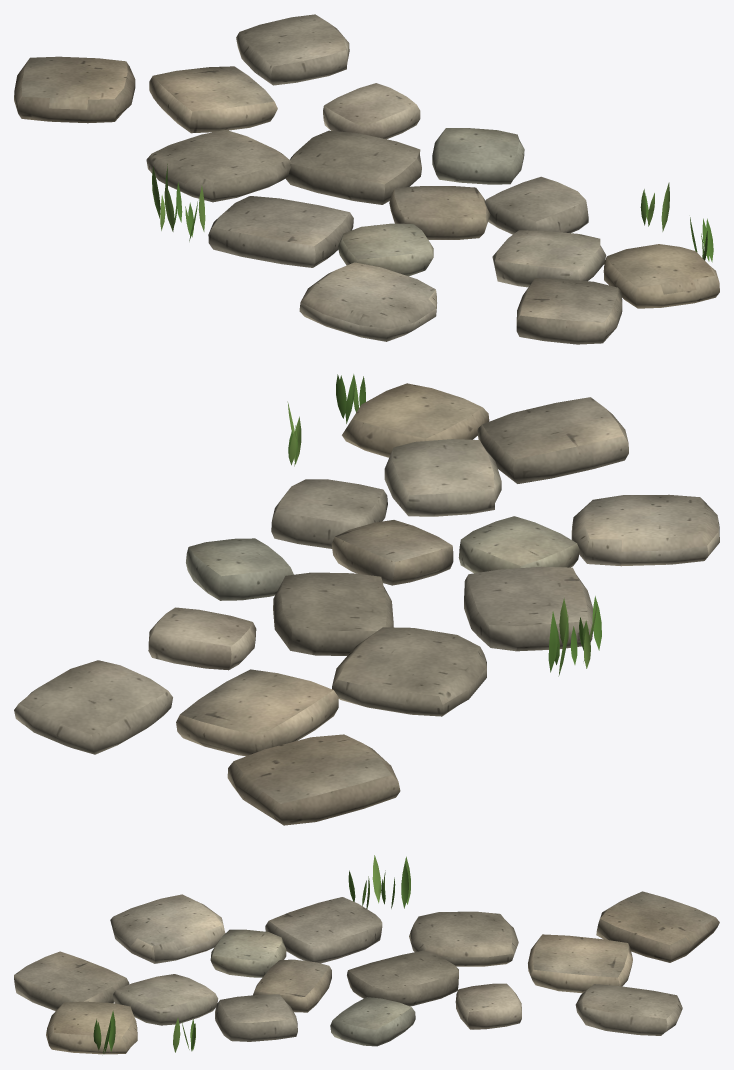
The model's file is path_stones.gltf.
The picture shows the model from 3 angles, top to bottom: view 1: azimuth 30°, elevation 25°; view 2: azimuth 150°, elevation 25°; view 3: azimuth 270°, elevation 25°; orthographic projection. The views are drawn at different scales.
Parts seen in each view (by area): view 1: Stones, Path; view 2: Stones, Path; view 3: Stones, Path.
Part boxes in pixels (box(x1,y1,x2,y2)): Stones: box(14, 14, 719, 344); Path: box(152, 164, 713, 262); Stones: box(14, 383, 719, 825); Path: box(287, 374, 601, 676); Stones: box(14, 891, 719, 1054); Path: box(93, 855, 410, 1053).
Size of the model in its own units: 1.57 by 0.2536 by 2.98.
Materials: 4 (1 with a texture image).
